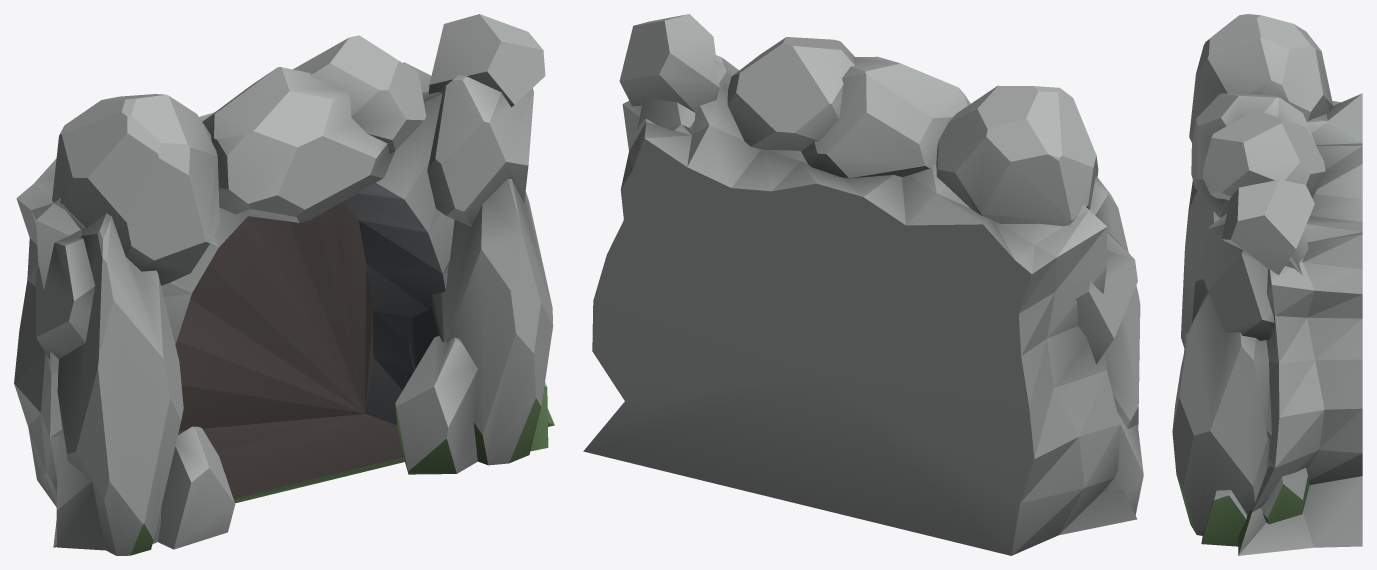
The model's file is cave.glb.
The picture shows the model from 3 angles, left to right: view 1: azimuth 30°, elevation 25°; view 2: azimuth 150°, elevation 25°; view 3: azimuth 270°, elevation 25°; orthographic projection. The views are drawn at different scales.
Parts seen in each view (by area): view 1: cave; view 2: cave; view 3: cave.
Part boxes in pixels (<box>): cave: <box>14,14,554,555</box>; cave: <box>583,14,1143,555</box>; cave: <box>1172,14,1362,555</box>.
Bounding box in the file's own units: 13.04 × 10.37 × 4.9.
